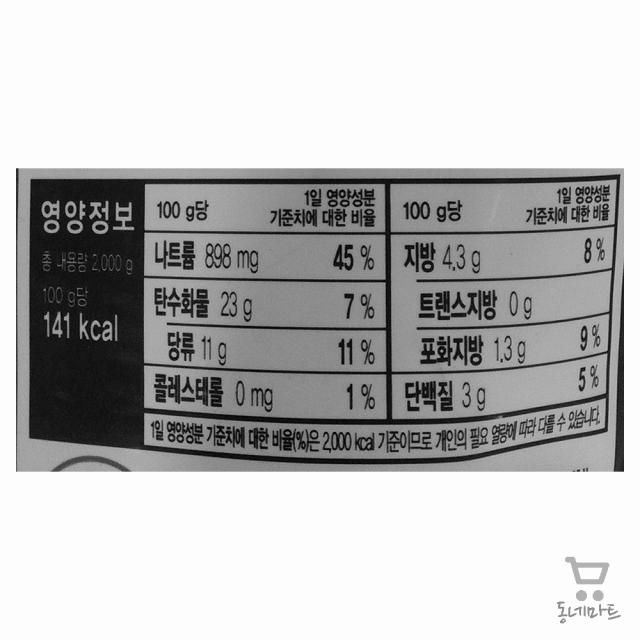Nutrition Label: (14, 170, 620, 473)
